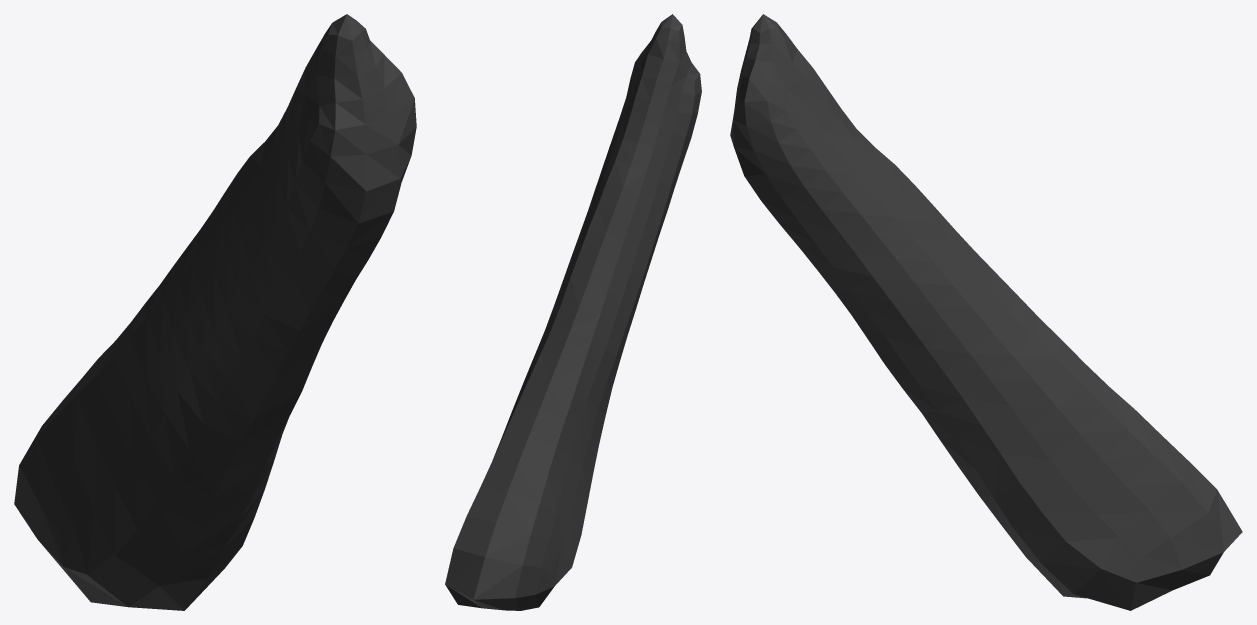
The picture shows the model from 3 angles, left to right: view 1: azimuth 30°, elevation 25°; view 2: azimuth 150°, elevation 25°; view 3: azimuth 270°, elevation 25°; orthographic projection. The views are drawn at different scales.
Visible parts, largest first — view 1: SB_1; view 2: SB_1; view 3: SB_1.
Part boxes in pixels (x1,y1,x2,y2): SB_1: [14, 14, 416, 610]; SB_1: [445, 14, 701, 610]; SB_1: [730, 14, 1242, 610].
Bounding box in the file's own units: 0.4588 × 2.22 × 1.79.
Materials: 1 (1 with a texture image).
